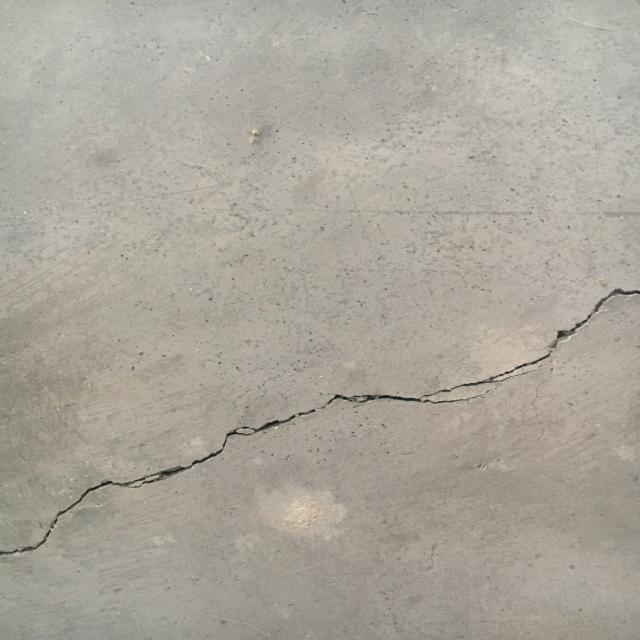SurfaceCrack: (1, 256, 640, 580)
